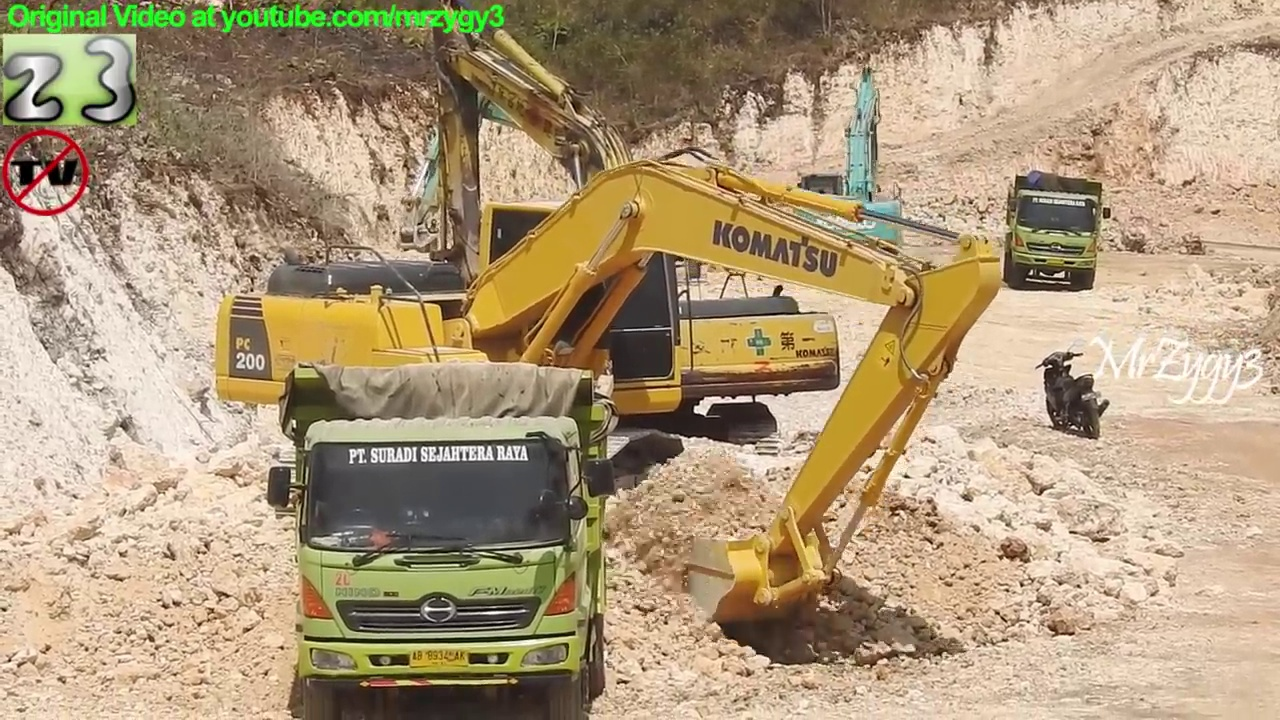excavator: (202, 140, 1012, 631), (408, 1, 850, 469), (392, 36, 729, 310), (768, 57, 930, 276)
truck: (261, 357, 629, 720), (1000, 165, 1116, 296)
